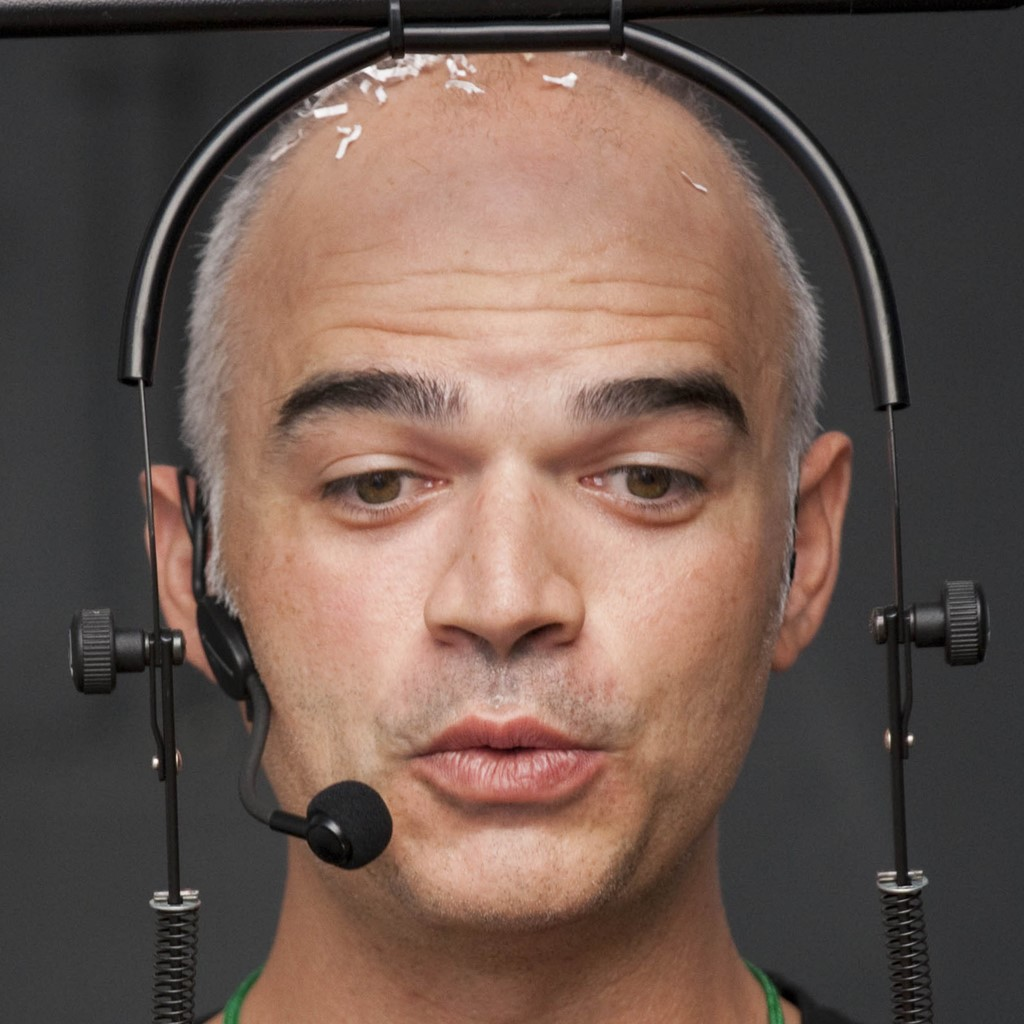sin_mascara: (195, 93, 810, 937)
